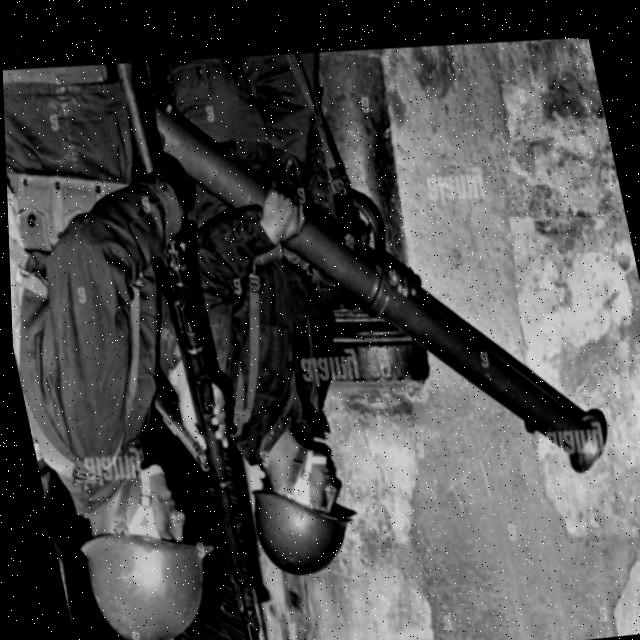rocket: (133, 27, 626, 539)
